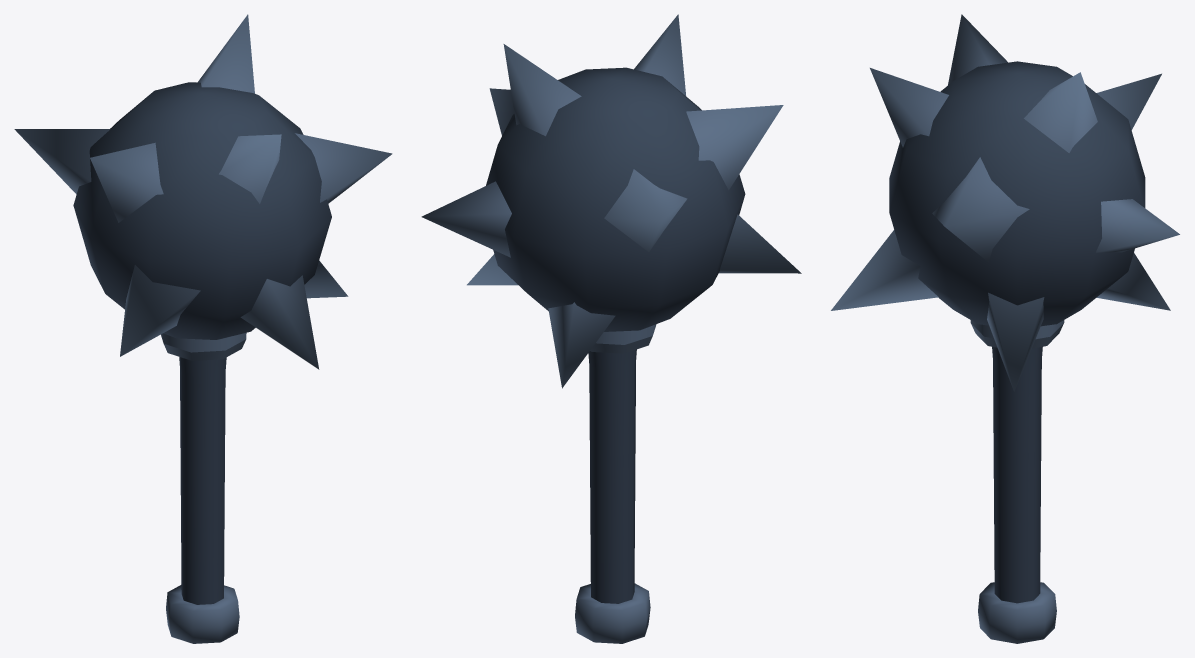
File: Hammer_LHand_13.fbx
The picture shows the model from 3 angles, left to right: view 1: azimuth 30°, elevation 25°; view 2: azimuth 150°, elevation 25°; view 3: azimuth 270°, elevation 25°; orthographic projection. The views are drawn at different scales.
Parts seen in each view (by area): view 1: Hammer_LHand_13; view 2: Hammer_LHand_13; view 3: Hammer_LHand_13.
Boxes of the visible parts, box(x1,y1,x2,y2) form: Hammer_LHand_13: box(14, 14, 392, 643); Hammer_LHand_13: box(421, 14, 801, 643); Hammer_LHand_13: box(831, 14, 1179, 643).
Bounding box in the file's own units: 37.31 × 69.41 × 37.05.
